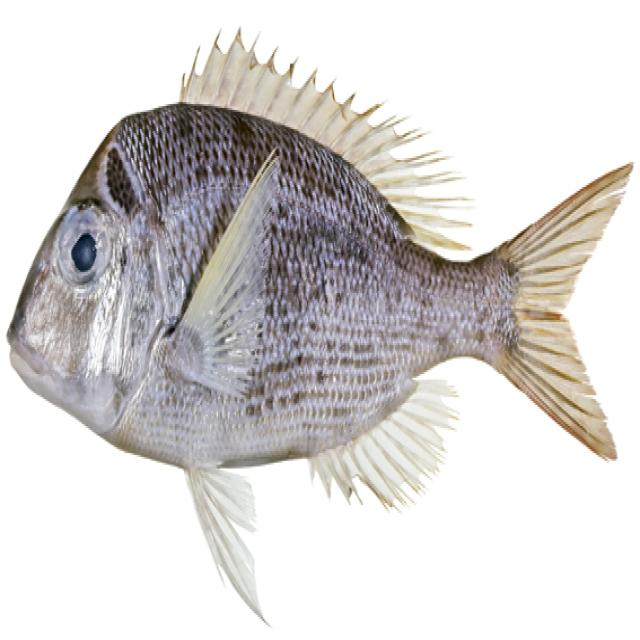ikan: (8, 21, 629, 562)
